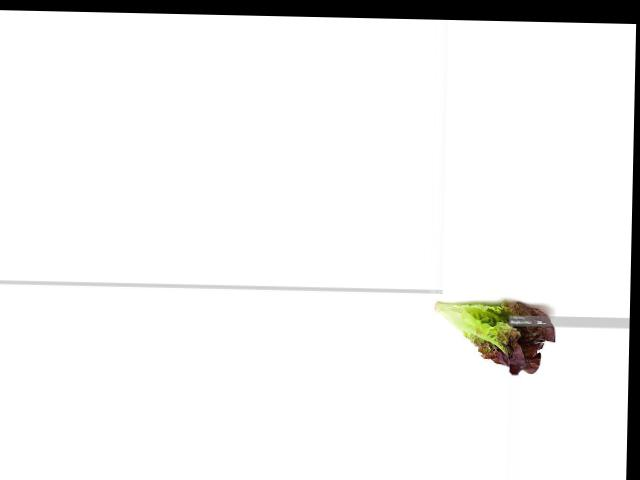lettuce: (428, 293, 558, 376)
